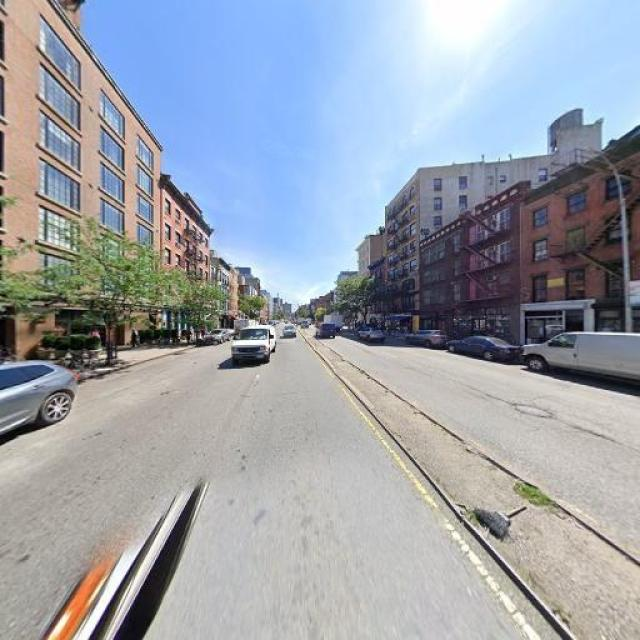Building: (1, 1, 162, 360), (522, 139, 640, 364), (420, 184, 517, 348), (163, 180, 208, 338), (388, 177, 417, 335), (370, 259, 385, 332), (359, 242, 367, 329), (220, 262, 227, 329), (212, 269, 218, 330)
